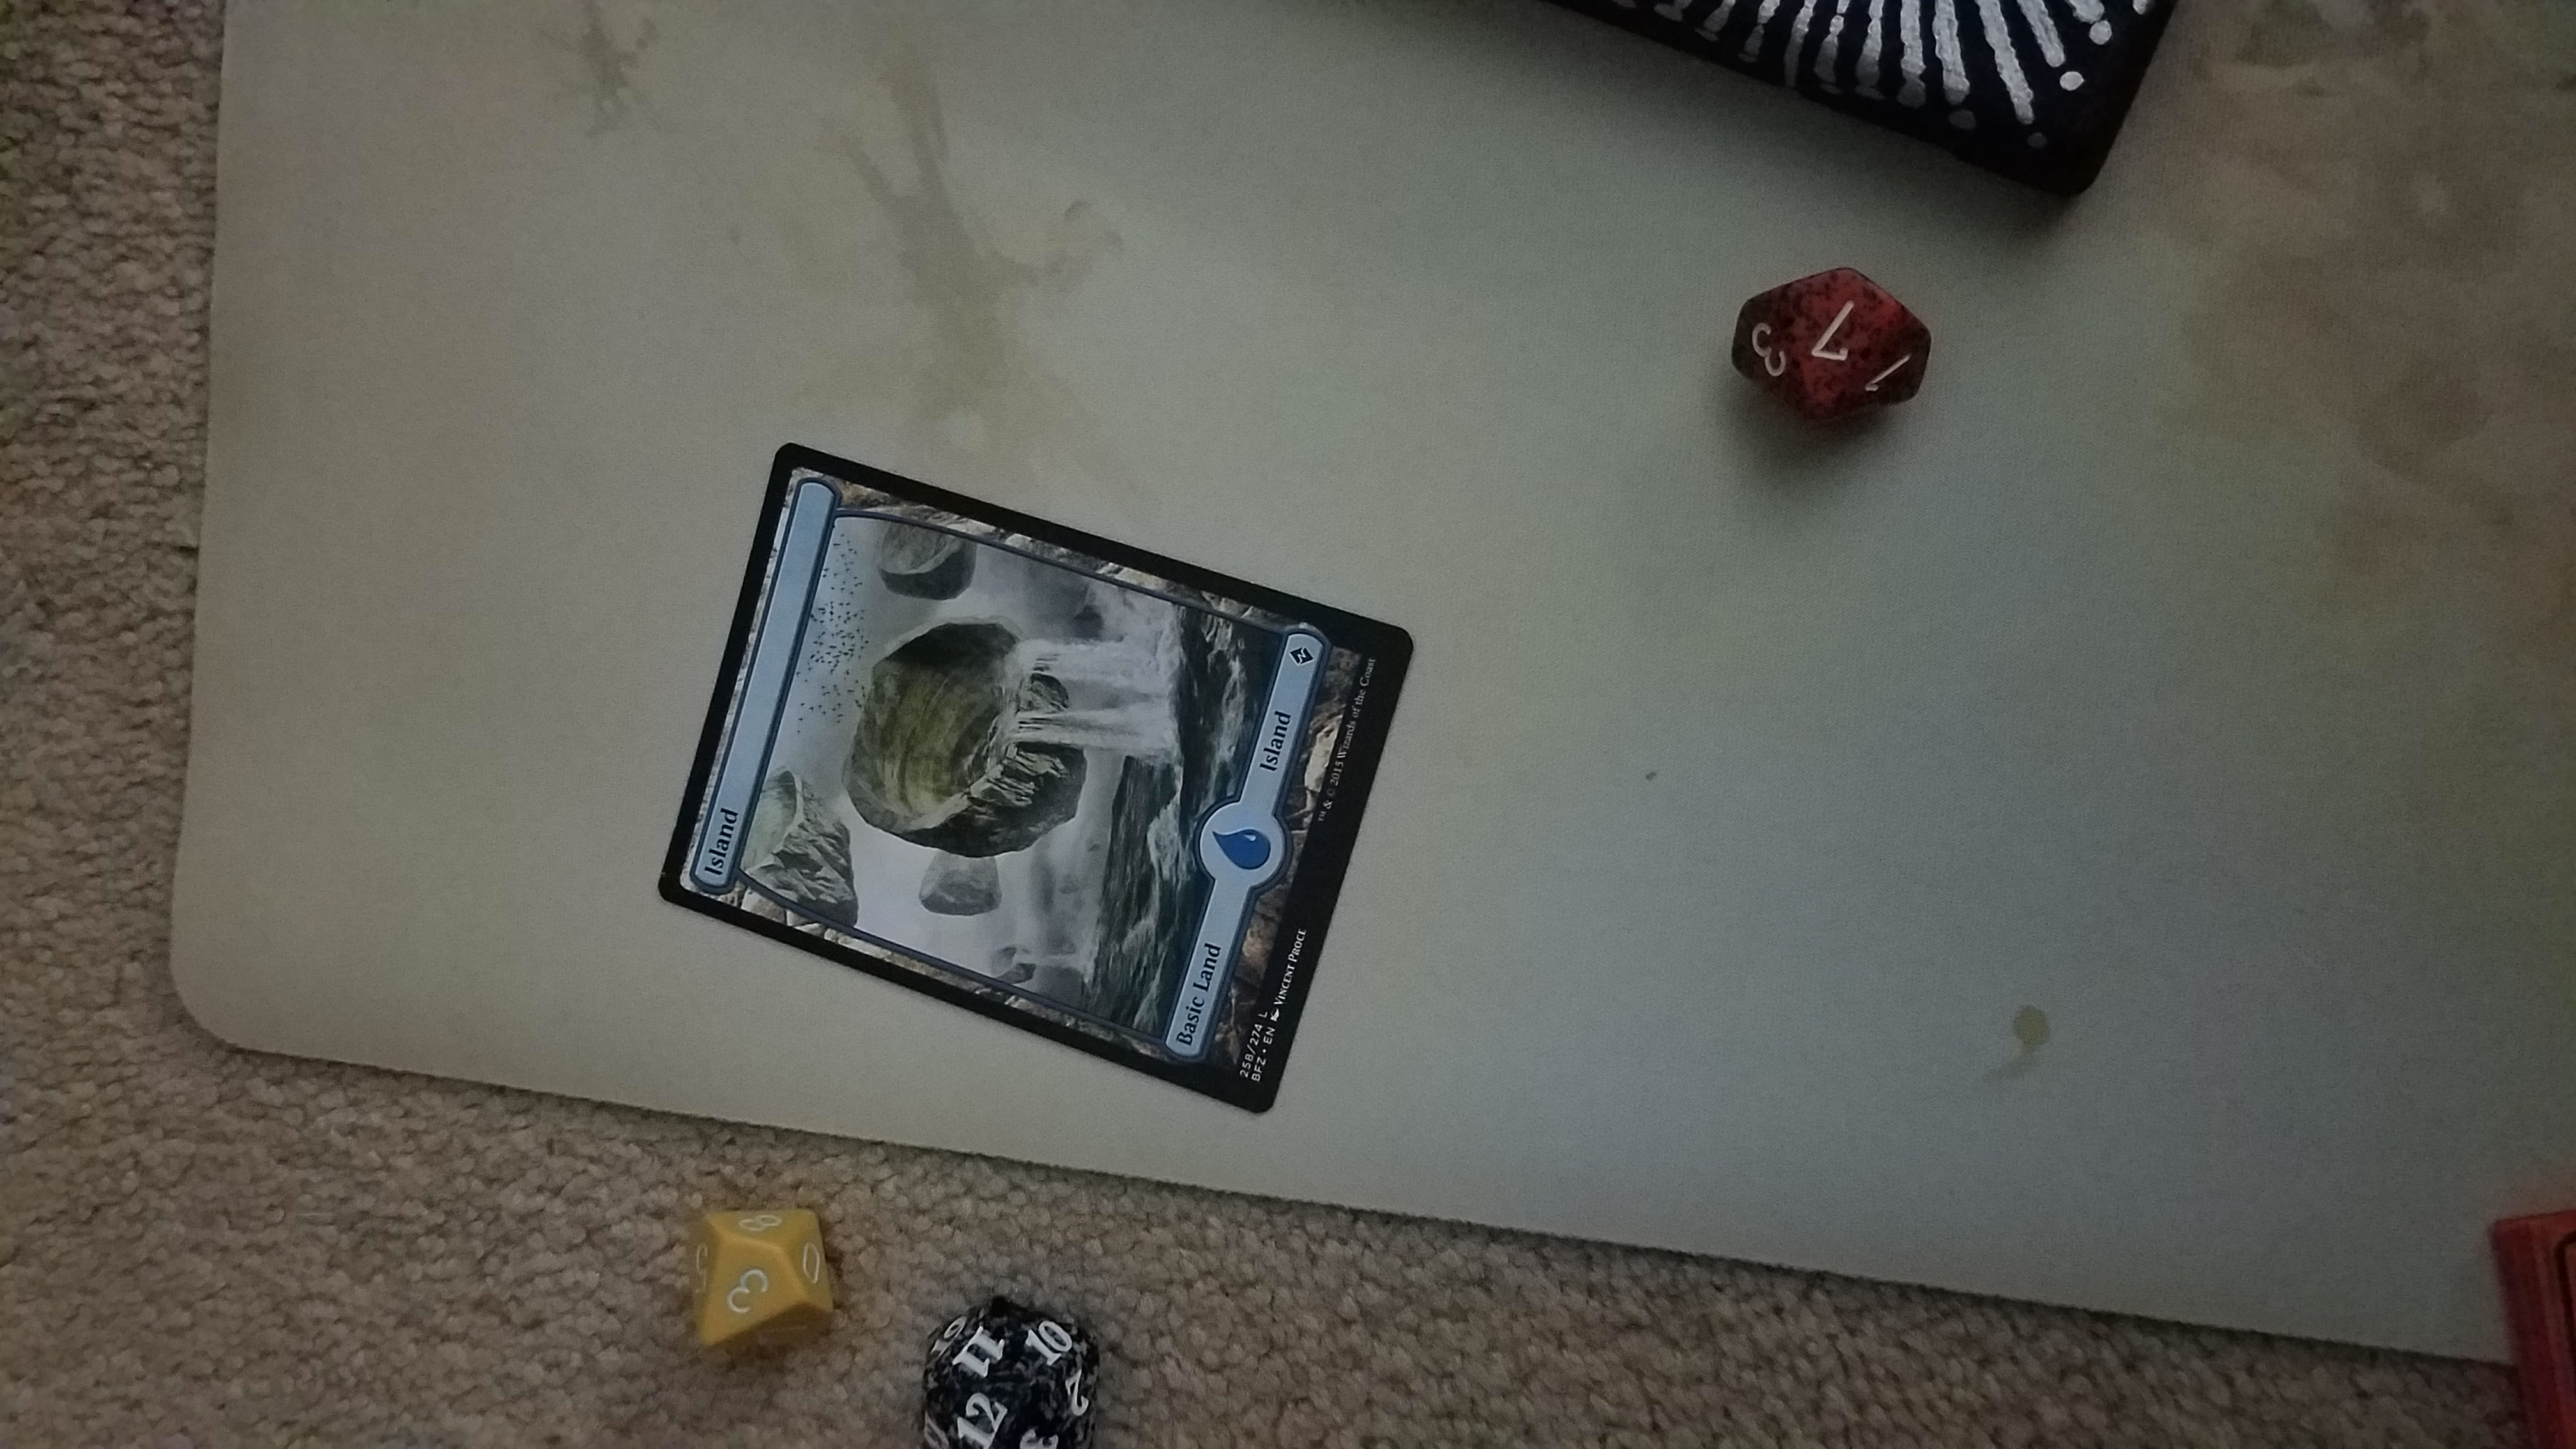Card: (651, 428, 1422, 1122)
